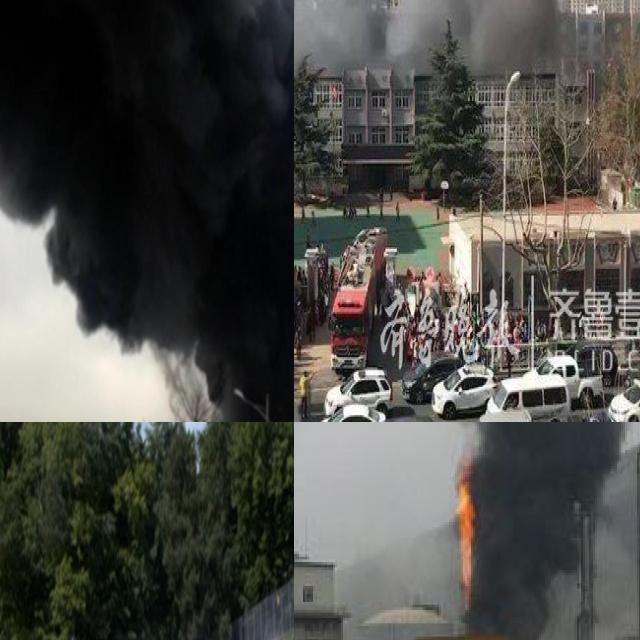fire: (451, 455, 479, 605)
smoke: (0, 0, 294, 422), (446, 422, 640, 640), (390, 0, 640, 78), (294, 0, 392, 78)
